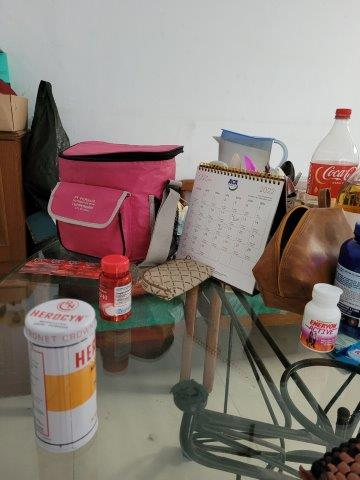botolplastik: (310, 109, 358, 197)
kaleng: (23, 300, 100, 450)
